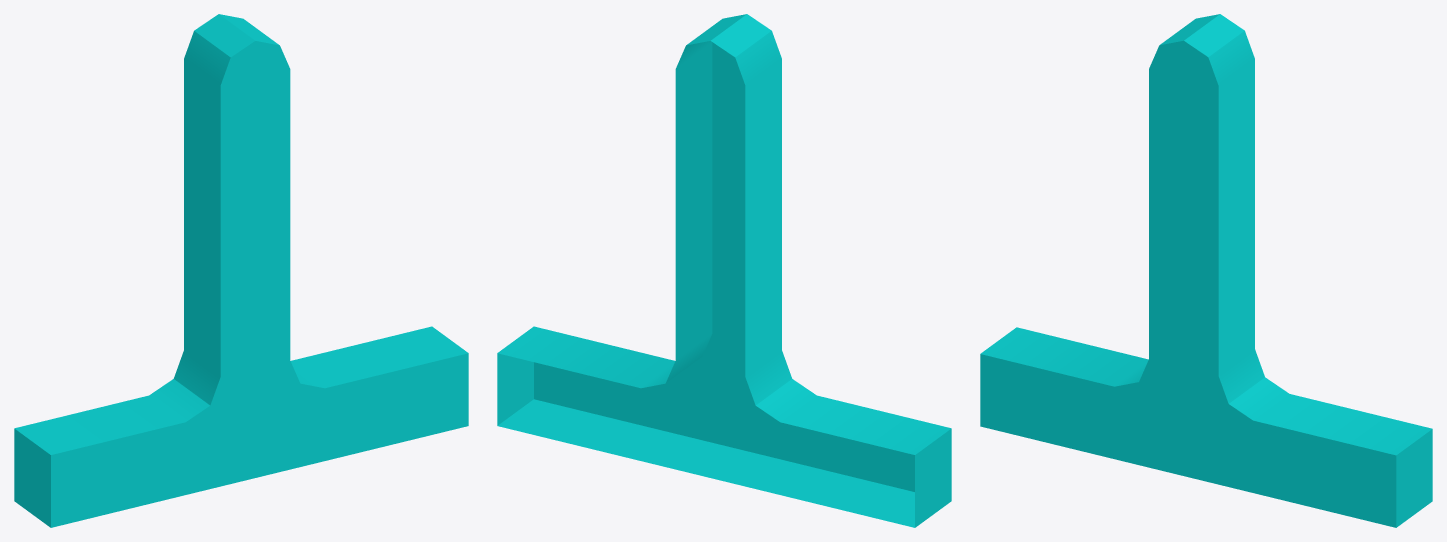
The model's file is I_blue.glb.
3 renders of one model, left to right at view 1: azimuth 30°, elevation 25°; view 2: azimuth 150°, elevation 25°; view 3: azimuth 330°, elevation 25°, orthographic.
Parts seen in each view (by area): view 1: I; view 2: I; view 3: I.
Part boxes in pixels (left/top/right/bottom): I: left=14, top=14, right=468, bottom=527; I: left=497, top=14, right=951, bottom=527; I: left=980, top=14, right=1432, bottom=527.
Bounding box in the file's own units: 0.4999 × 0.4999 × 0.0759.
Materials: 1 (1 with a texture image).
